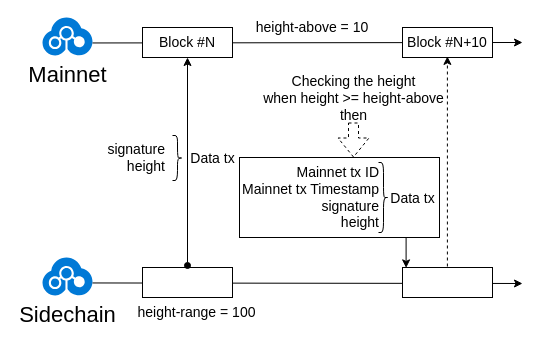
Some shapes in this 548 by 345 pixel diagram are drawn without their labels. Here are the shapes that lost their labels. From the top down, the centre of each, then its label:
(x=187, y=282): Block #K-100
(x=447, y=282): Block
